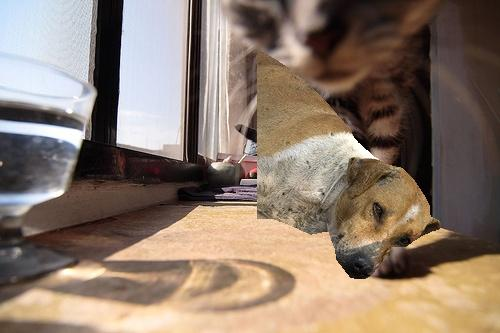tampered: (258, 50, 441, 279)
